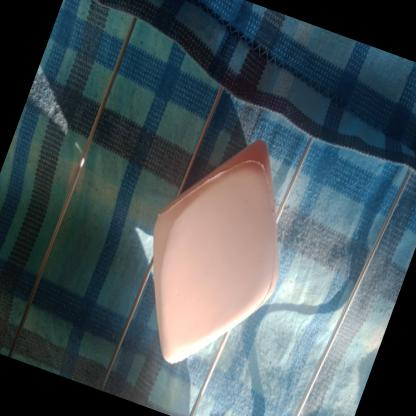Cube: (108, 111, 323, 392)
